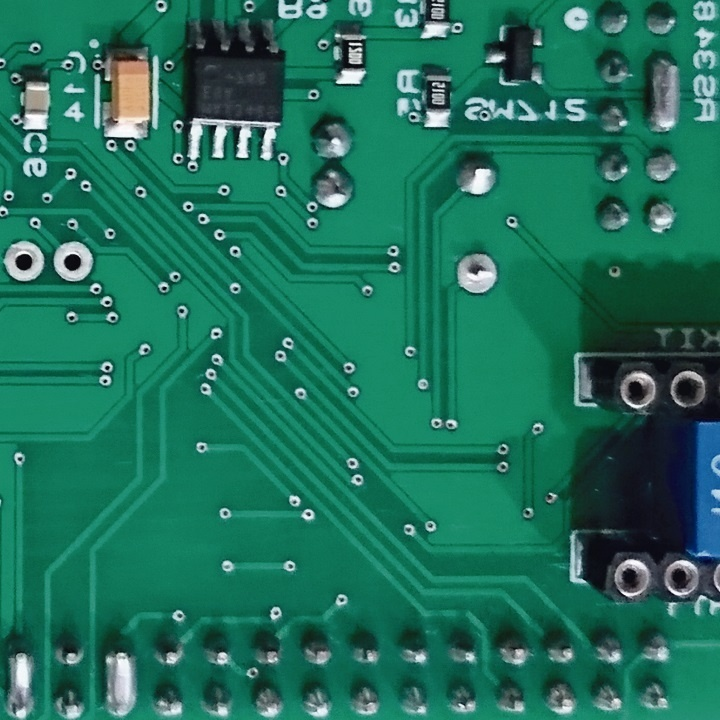F: (453, 249, 501, 303), (1, 238, 48, 287), (52, 239, 98, 286)
P: (641, 49, 685, 138), (1, 629, 44, 720), (101, 631, 141, 720)
